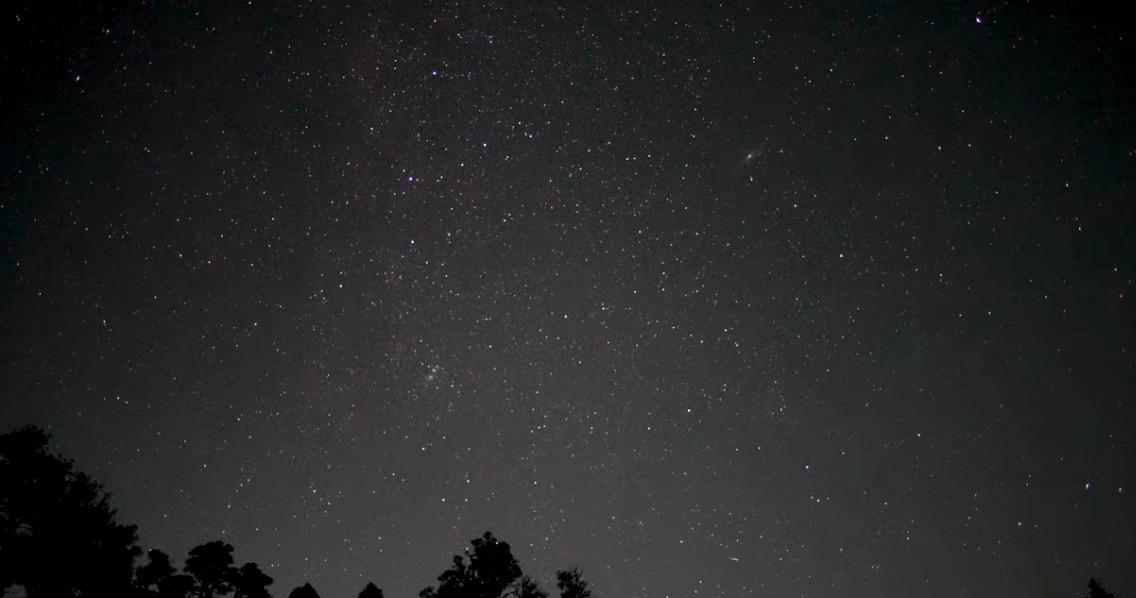meteorite: (723, 553, 745, 565)
